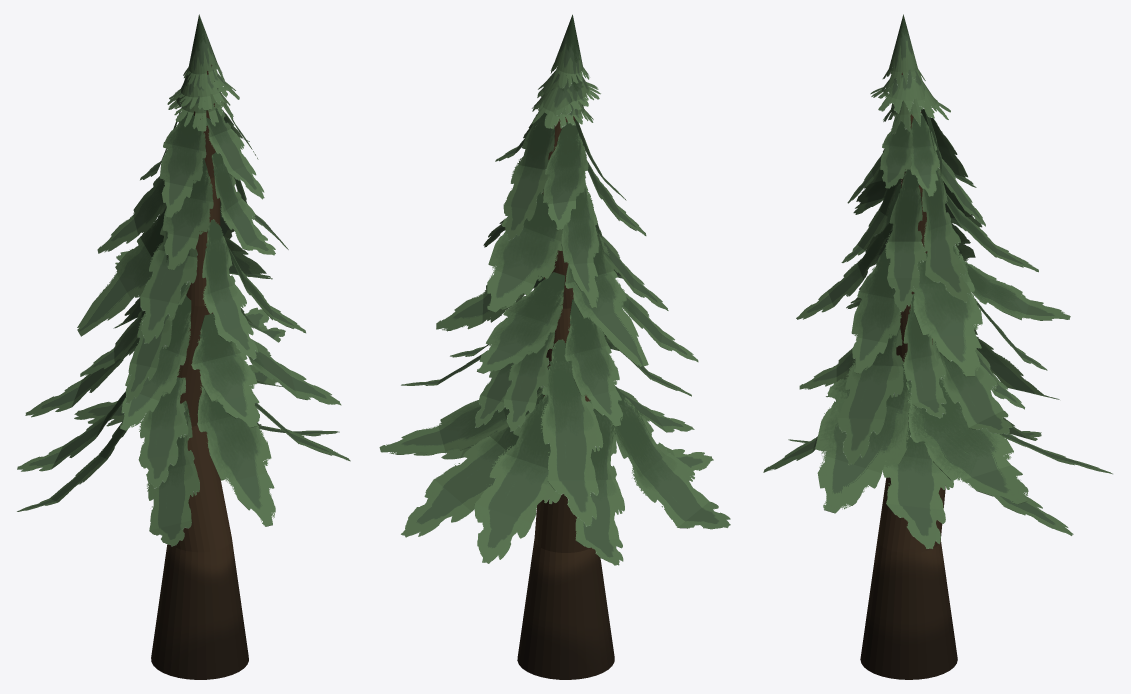
File: TREE.fbx
3 renders of one model, left to right at view 1: azimuth 30°, elevation 25°; view 2: azimuth 150°, elevation 25°; view 3: azimuth 270°, elevation 25°, orthographic.
Parts seen in each view (by area): view 1: Plane.023, Cylinder; view 2: Plane.023, Cylinder; view 3: Plane.023, Cylinder.
Part boxes in pixels (bbox=[...]): Plane.023: bbox=[17, 14, 350, 546]; Cylinder: bbox=[151, 64, 248, 679]; Plane.023: bbox=[379, 14, 730, 565]; Cylinder: bbox=[517, 116, 614, 679]; Plane.023: bbox=[763, 14, 1112, 548]; Cylinder: bbox=[860, 72, 957, 679].
Bounding box in the file's own units: 774 × 1457 × 726.
